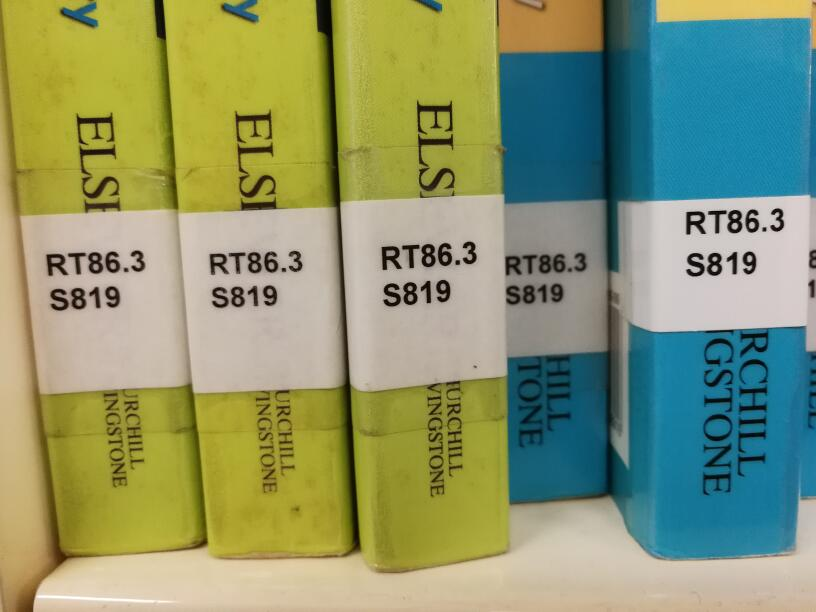booklabel: (683, 205, 787, 278), (379, 238, 479, 308), (43, 247, 147, 314), (206, 248, 305, 308), (503, 251, 588, 305)
